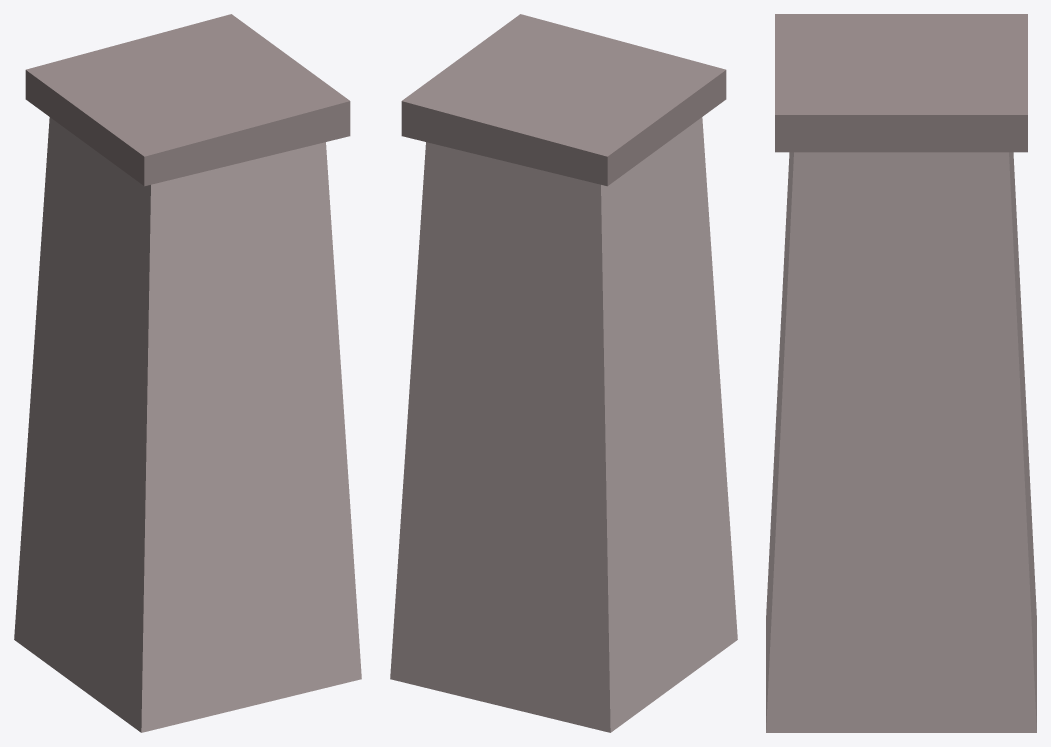
File: HWN20_Column_03.glb
3 renders of one model, left to right at view 1: azimuth 30°, elevation 25°; view 2: azimuth 150°, elevation 25°; view 3: azimuth 270°, elevation 25°, orthographic. The views are drawn at different scales.
Visible parts, largest first — view 1: HWN20_Column_03; view 2: HWN20_Column_03; view 3: HWN20_Column_03.
Part boxes in pixels (x1,y1,x2,y2): HWN20_Column_03: (14, 14, 361, 732); HWN20_Column_03: (390, 14, 737, 732); HWN20_Column_03: (766, 14, 1036, 732).
Size of what is drawn, in the model's own units: 1.28 by 3.19 by 1.28.
1 material, 1 textured.
